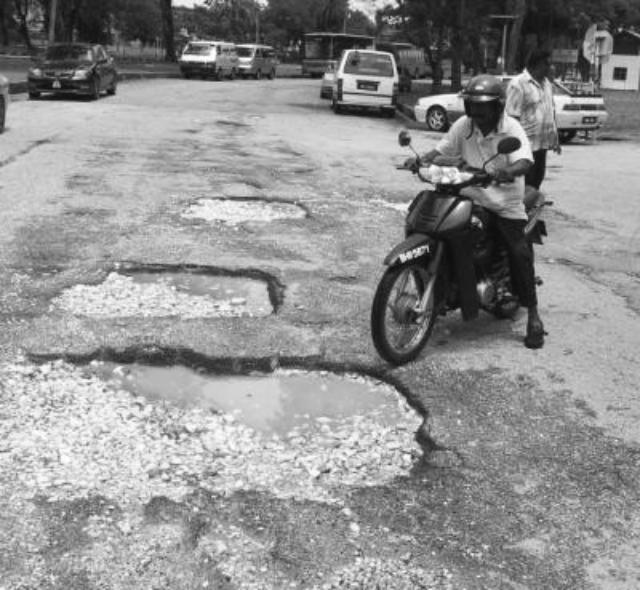Pothole: (16, 342, 434, 510), (47, 261, 280, 323), (182, 192, 312, 226)
